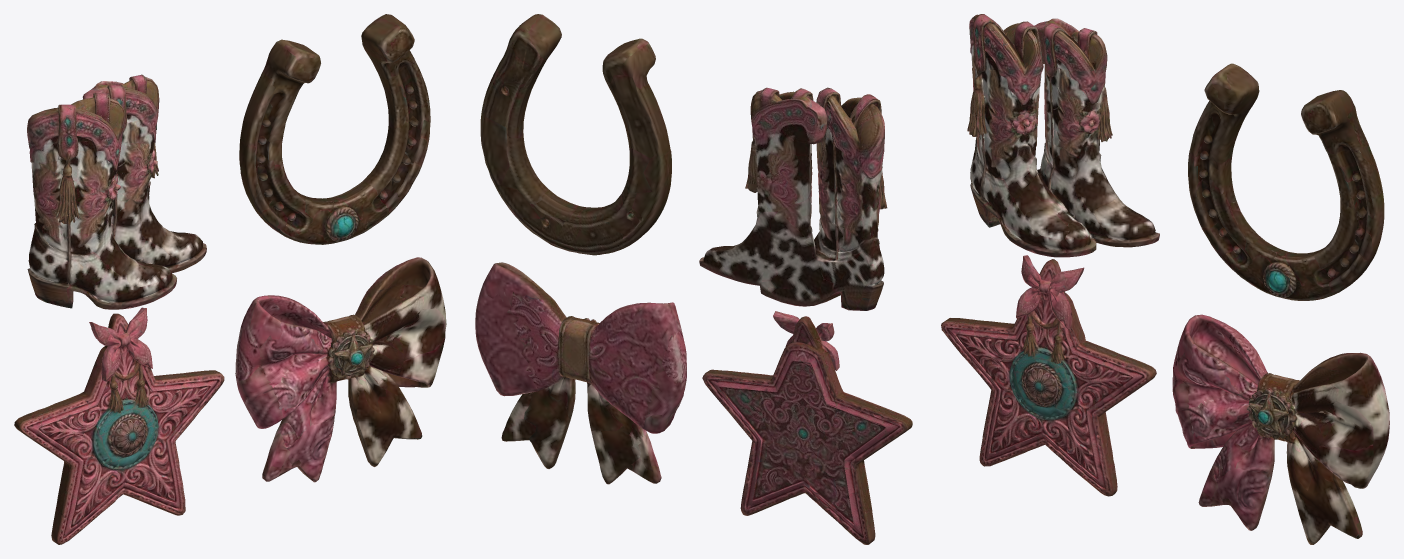
3 views of the same model, side by side, from view 1: azimuth 30°, elevation 25°; view 2: azimuth 150°, elevation 25°; view 3: azimuth 330°, elevation 25° (orthographic). The views are drawn at different scales.
Parts seen in each view (by area): view 1: Mesh 3, Mesh 2, Mesh 1, Mesh 4; view 2: Mesh 3, Mesh 2, Mesh 1, Mesh 4; view 3: Mesh 2, Mesh 3, Mesh 1, Mesh 4.
Part boxes in pixels (x1=…): Mesh 3: x1=235, y1=257, x2=446, y2=482; Mesh 2: x1=27, y1=74, x2=206, y2=309; Mesh 1: x1=14, y1=307, x2=224, y2=544; Mesh 4: x1=239, y1=14, x2=430, y2=244; Mesh 3: x1=475, y1=262, x2=686, y2=484; Mesh 2: x1=699, y1=87, x2=887, y2=310; Mesh 1: x1=702, y1=311, x2=912, y2=544; Mesh 4: x1=480, y1=14, x2=671, y2=255; Mesh 2: x1=967, y1=14, x2=1159, y2=257; Mesh 3: x1=1172, y1=314, x2=1389, y2=544; Mesh 1: x1=941, y1=255, x2=1156, y2=496; Mesh 4: x1=1188, y1=63, x2=1384, y2=300.
Bounding box in the file's own units: 1.9 × 1.88 × 0.2273.
Materials: 4 (4 with a texture image).
